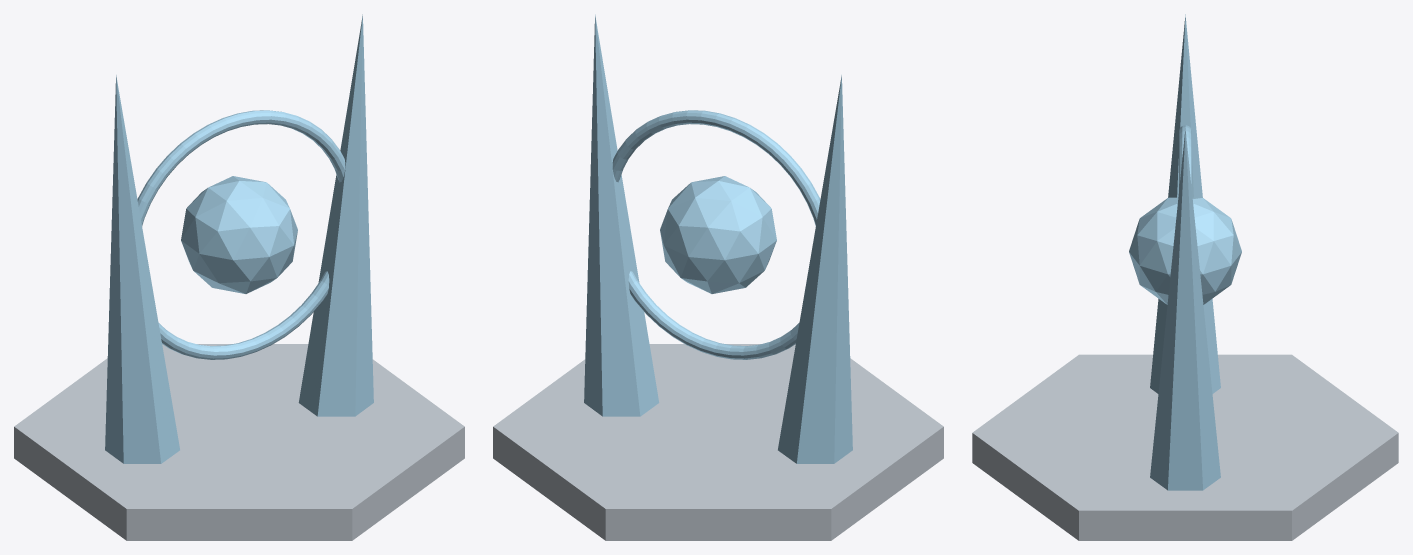
Rendered from Portal_Reino_Hielo.fbx.
The picture shows the model from 3 angles, left to right: view 1: azimuth 30°, elevation 25°; view 2: azimuth 150°, elevation 25°; view 3: azimuth 270°, elevation 25°; orthographic projection. The views are drawn at different scales.
Visible parts, largest first — view 1: P3_Base_Glaciar, P3_Aguja_Hielo_1.8, P3_Aguja_Hielo_-1.8, P3_Frost_Core, P3_Anillo_Hielo; view 2: P3_Base_Glaciar, P3_Aguja_Hielo_1.8, P3_Aguja_Hielo_-1.8, P3_Frost_Core, P3_Anillo_Hielo; view 3: P3_Base_Glaciar, P3_Aguja_Hielo_1.8, P3_Frost_Core, P3_Aguja_Hielo_-1.8.
Part boxes in pixels (x1,y1,x2,y2): P3_Base_Glaciar: (14,344,464,540); P3_Aguja_Hielo_1.8: (298,14,373,416); P3_Aguja_Hielo_-1.8: (105,75,179,463); P3_Frost_Core: (181,176,297,293); P3_Anillo_Hielo: (137,110,345,359); P3_Base_Glaciar: (493,344,943,540); P3_Aguja_Hielo_1.8: (584,14,659,416); P3_Aguja_Hielo_-1.8: (778,75,852,463); P3_Frost_Core: (660,176,776,293); P3_Anillo_Hielo: (612,110,820,359); P3_Base_Glaciar: (972,354,1398,540); P3_Aguja_Hielo_1.8: (1150,128,1220,490); P3_Frost_Core: (1129,197,1241,304); P3_Aguja_Hielo_-1.8: (1150,14,1220,393).
Size of the model in its own units: 554 by 649 by 640.
